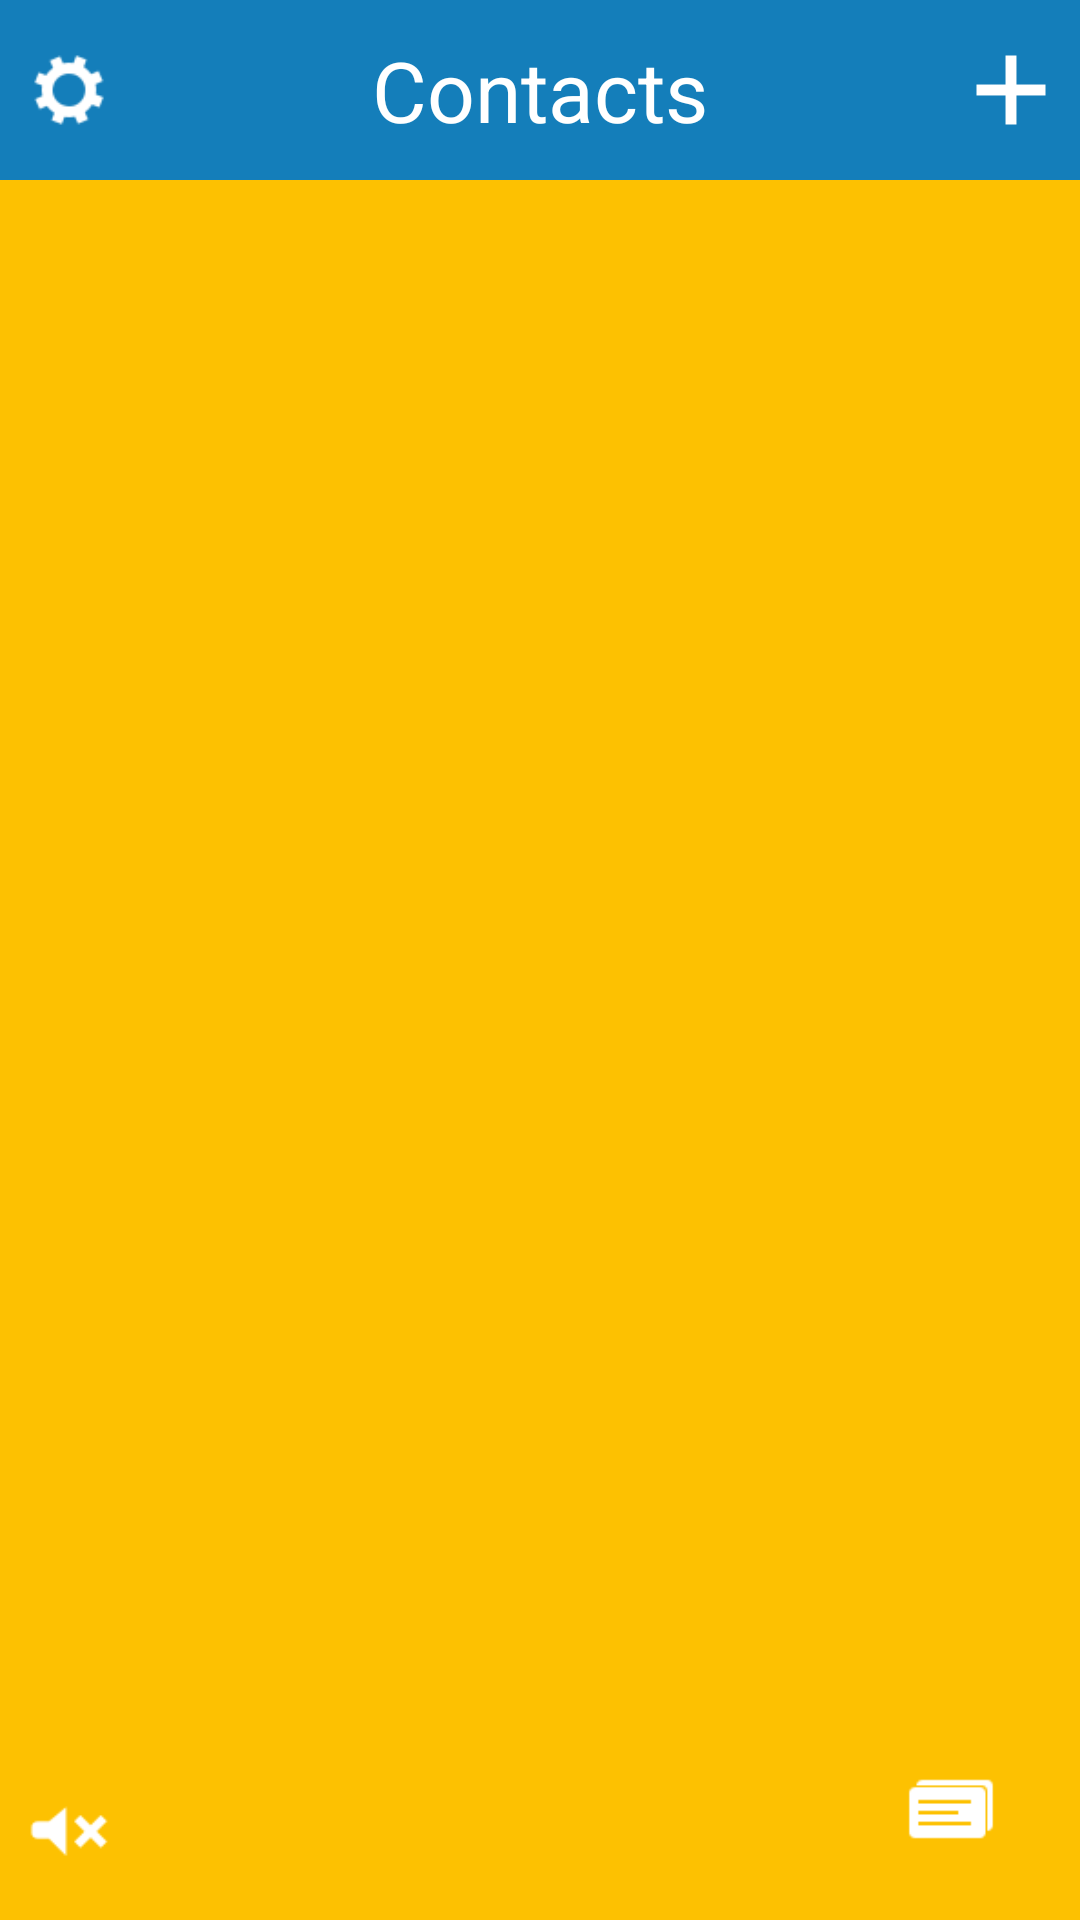

Named icons in this screenshot (1080 × 1920) and their bounding boxes, (x1=x1, y1=y1, x2=x2, y2=y2):
add: (x1=976, y1=55, x2=1046, y2=125)
mute: (x1=30, y1=1807, x2=108, y2=1856)
settings: (x1=34, y1=55, x2=104, y2=125)
